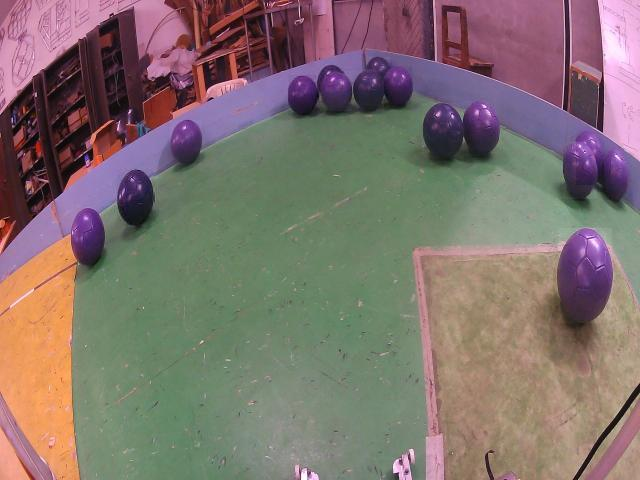jambhalya: (558, 229, 612, 323), (463, 101, 500, 156), (71, 208, 105, 265), (563, 142, 597, 199), (576, 130, 604, 185), (170, 120, 202, 165), (320, 71, 352, 111), (604, 150, 629, 200), (288, 75, 318, 115), (384, 66, 412, 106)
kaalyya: (423, 104, 464, 158), (117, 170, 154, 226), (353, 70, 384, 110), (317, 65, 343, 90), (366, 57, 390, 78)
